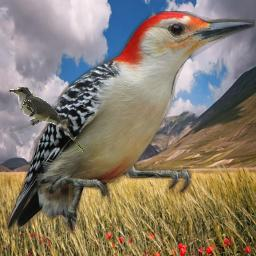Cuckoo: (9, 87, 84, 152)
Woodpecker: (4, 11, 255, 233)
